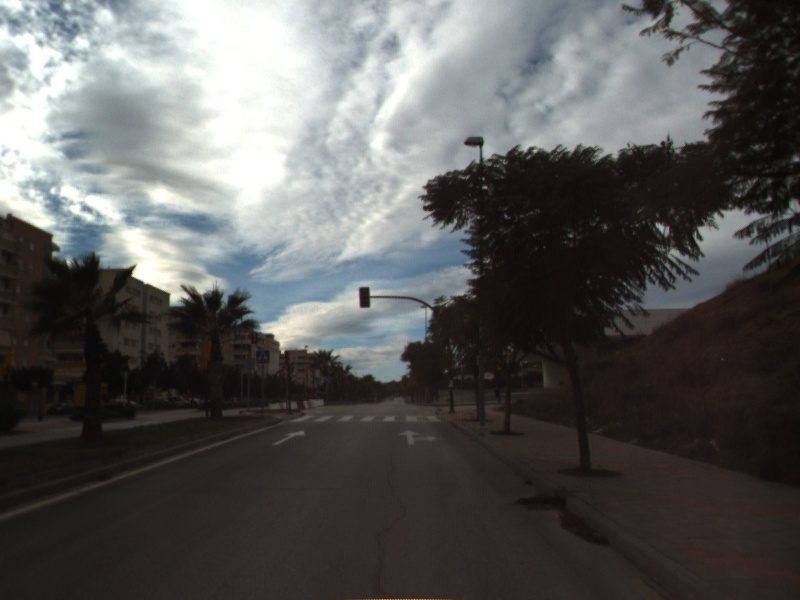STRAIGHT: (270, 428, 308, 447)
STRAIGHT_RIGHT: (396, 428, 440, 447)
